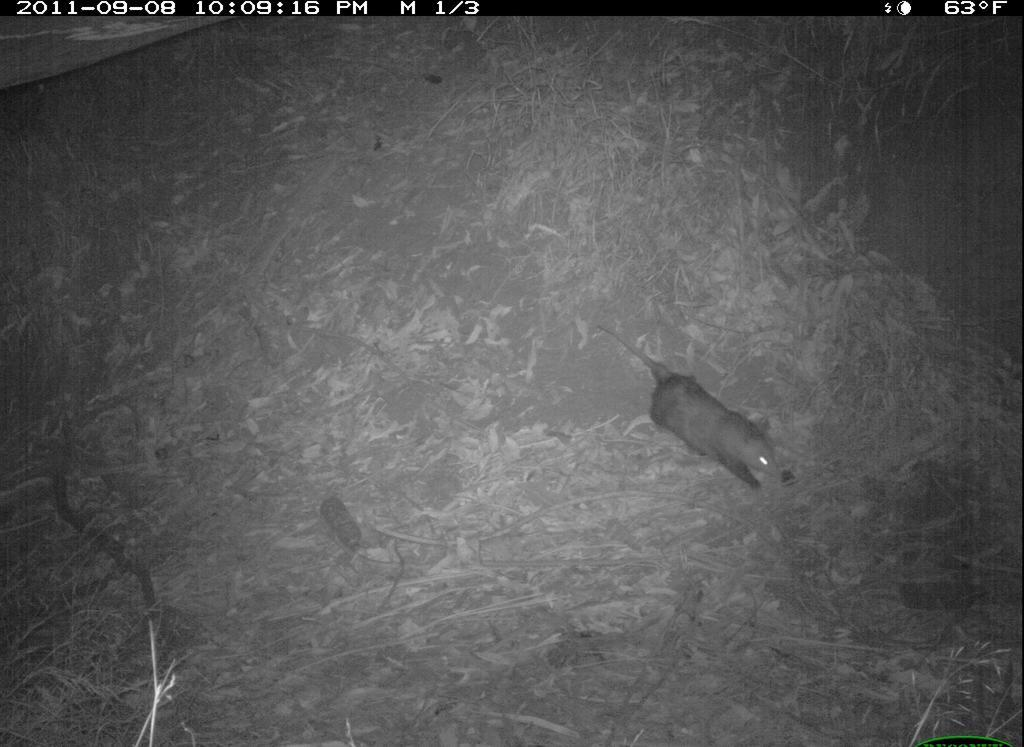opossum: (579, 313, 793, 502)
